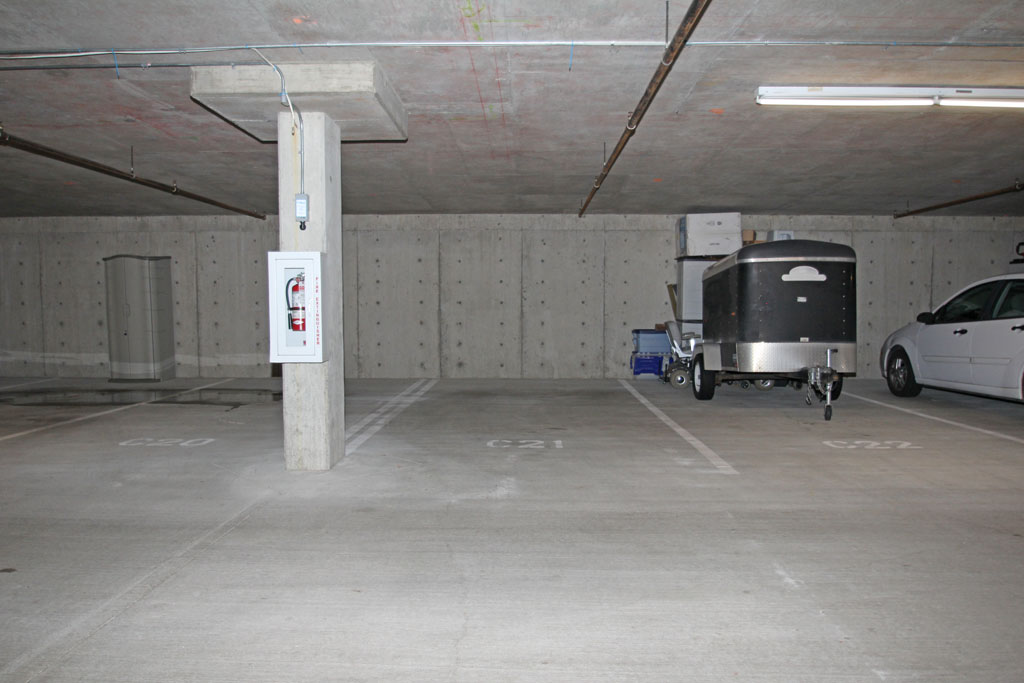empyt_space: (329, 355, 740, 483)
